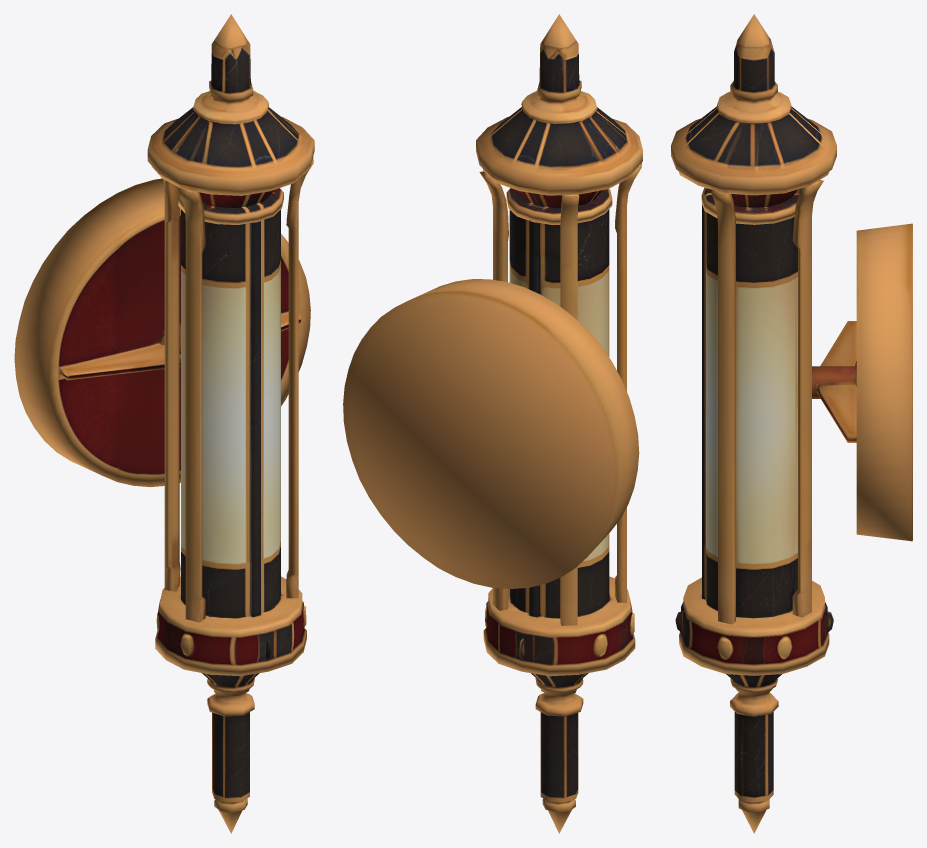
Rendered from Lantern.glb.
3 views of the same model, side by side, from view 1: azimuth 30°, elevation 25°; view 2: azimuth 150°, elevation 25°; view 3: azimuth 270°, elevation 25° (orthographic).
Parts seen in each view (by area): view 1: Lantern; view 2: Lantern; view 3: Lantern.
Boxes of the visible parts, x1,y1,x2,y2 form: Lantern: (14,14,314,833); Lantern: (343,14,642,833); Lantern: (671,14,912,833).
Bounding box in the file's own units: 0.4984 × 1.42 × 0.3803.
Materials: 1 (1 with a texture image).
